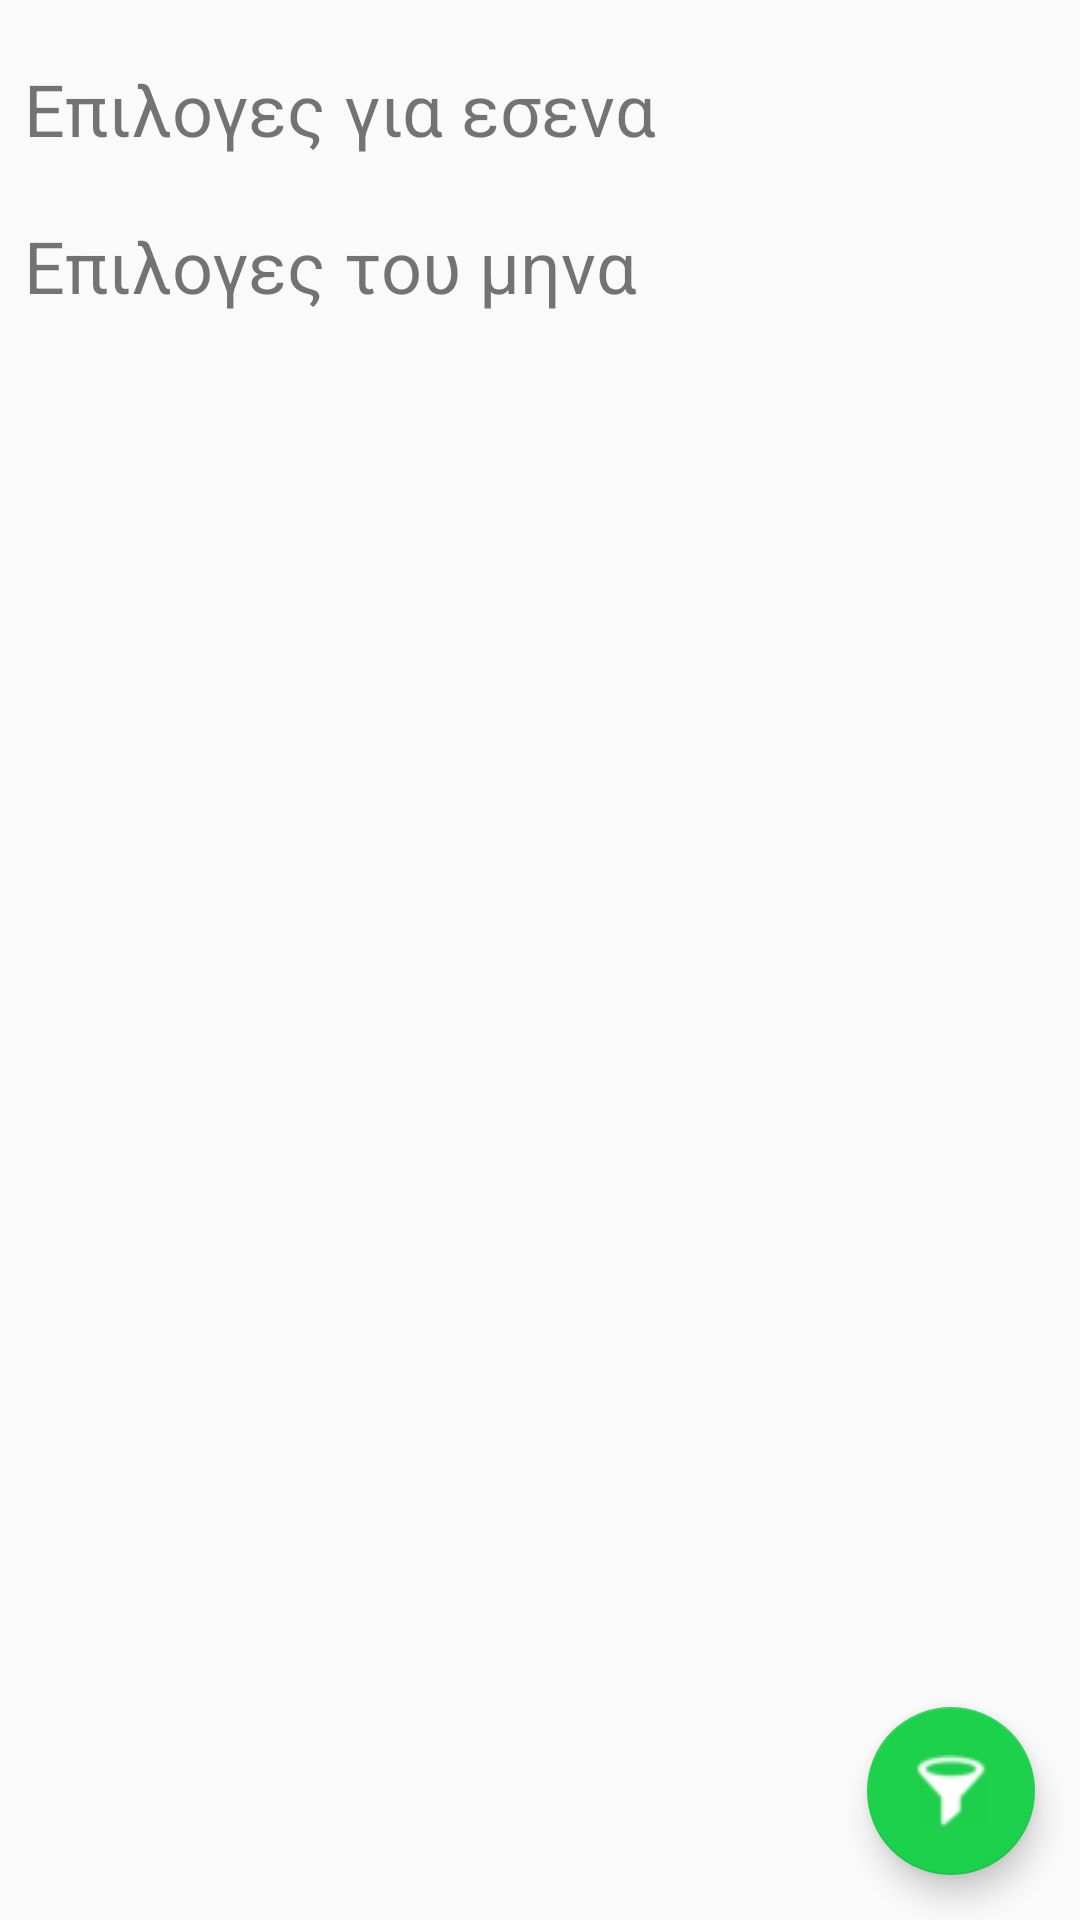

Screen size 1080×1920. Icon name, then its center in pixels as [x,y]:
filters: [951,1791]
